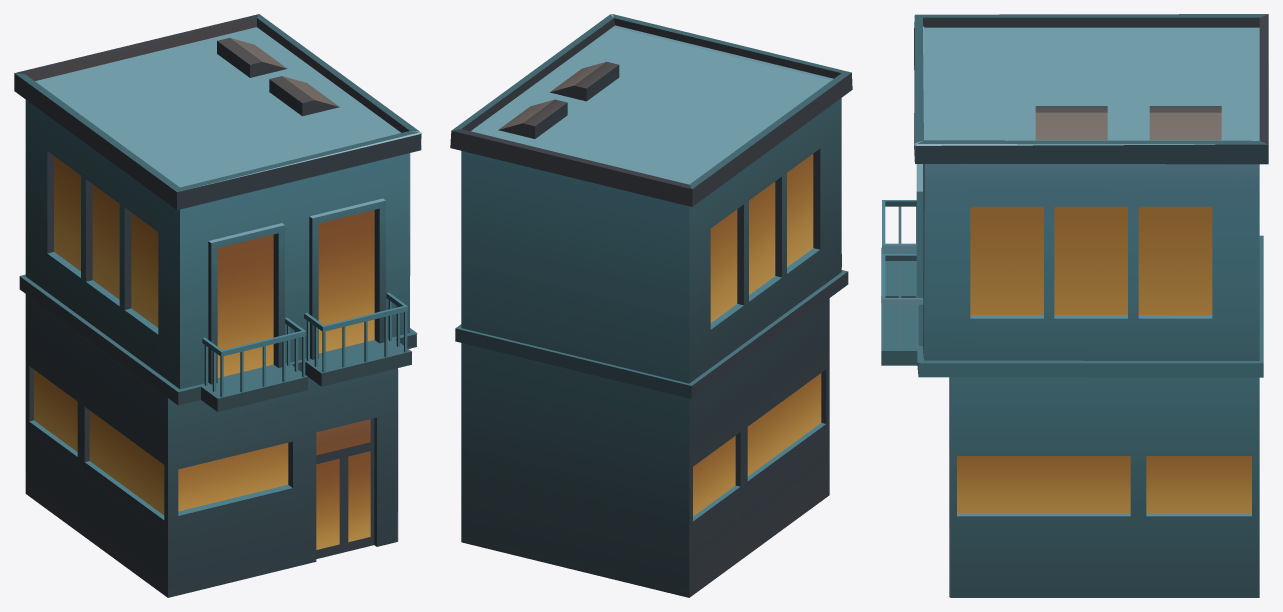
The model's file is SM_Building_4.fbx.
3 renders of one model, left to right at view 1: azimuth 30°, elevation 25°; view 2: azimuth 150°, elevation 25°; view 3: azimuth 270°, elevation 25°, orthographic. The views are drawn at different scales.
Parts seen in each view (by area): view 1: SM_Building_4; view 2: SM_Building_4; view 3: SM_Building_4.
Boxes of the visible parts, x1,y1,x2,y2 form: SM_Building_4: (14, 14, 421, 597); SM_Building_4: (450, 14, 852, 597); SM_Building_4: (881, 14, 1268, 597).
Bounding box in the file's own units: 713 × 1174 × 893.
